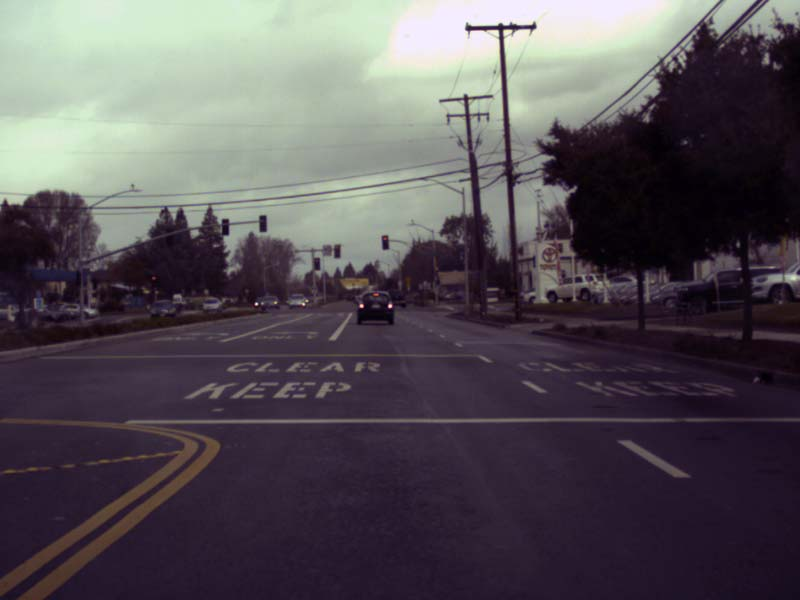Red: (381, 235, 388, 249), (334, 243, 340, 258), (313, 257, 320, 269), (151, 275, 157, 286), (435, 265, 438, 280)
